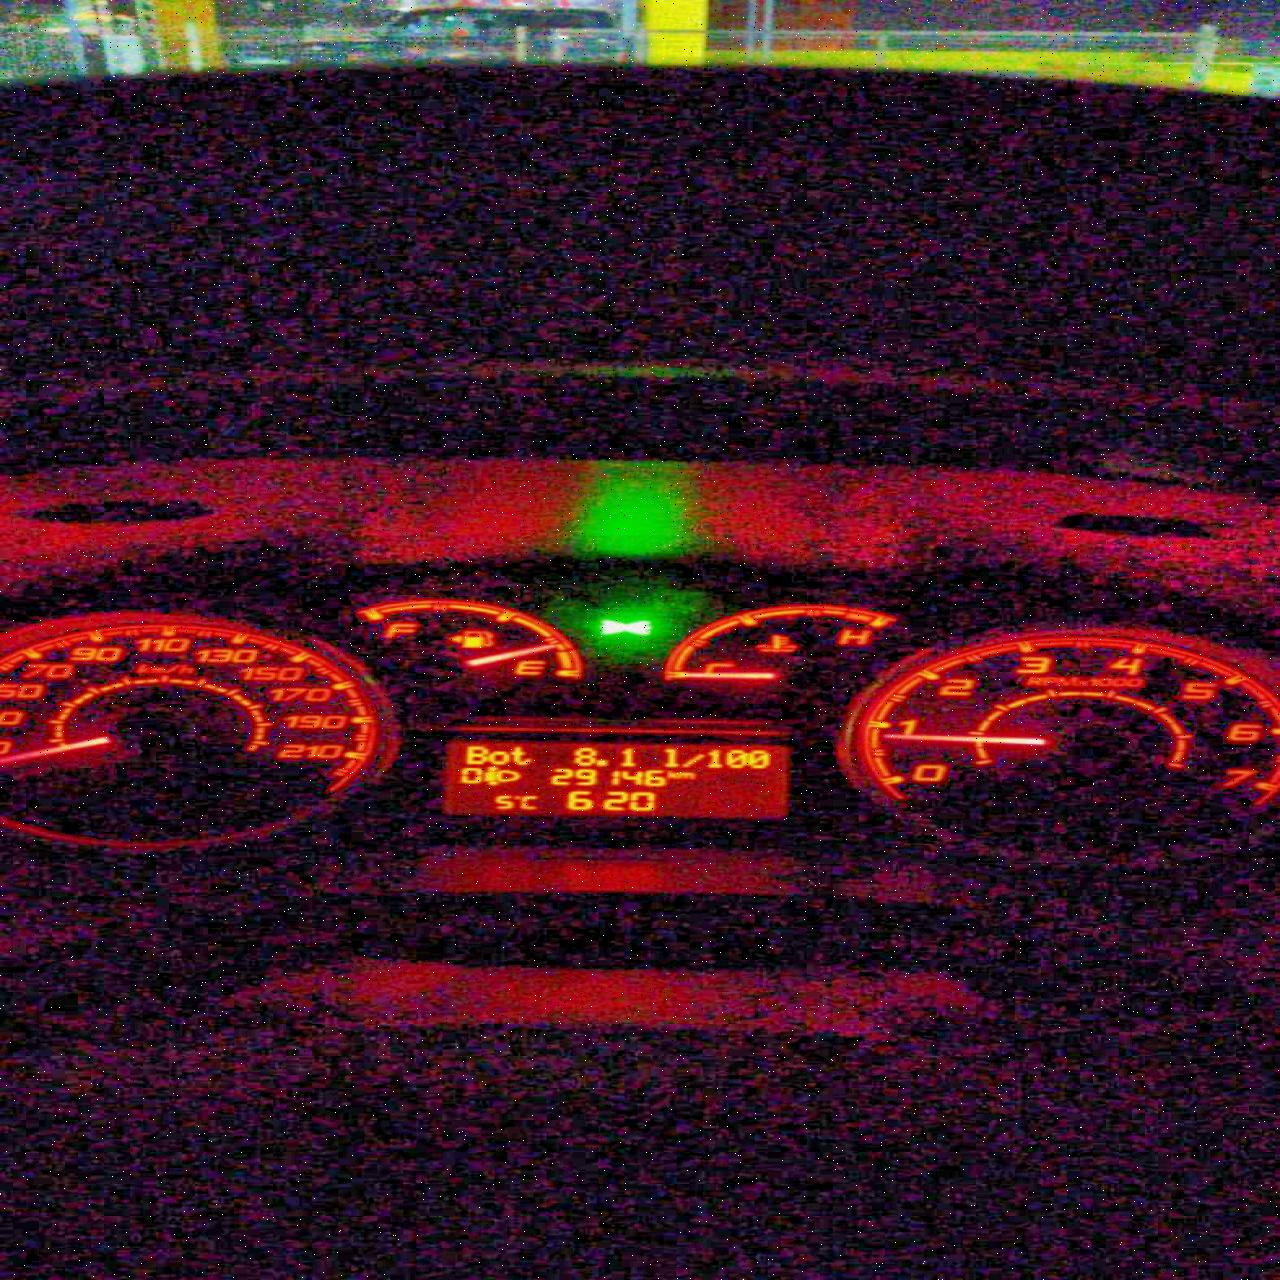0: (628, 790, 654, 812), (722, 747, 747, 769), (747, 748, 769, 769), (458, 767, 482, 784)
1: (617, 747, 641, 768), (660, 745, 680, 767), (706, 748, 720, 770), (608, 768, 620, 787)
2: (601, 790, 626, 811), (550, 767, 572, 784)
4: (621, 769, 641, 785)
5: (492, 794, 512, 809)
6: (564, 789, 592, 810), (645, 769, 663, 788)
8: (571, 745, 594, 764)
9: (572, 768, 599, 784)
X: (463, 743, 486, 764), (509, 745, 532, 767), (681, 751, 704, 767), (519, 794, 540, 810), (486, 750, 508, 764), (676, 770, 694, 781), (593, 794, 601, 809), (666, 769, 676, 779)
odometer: (437, 738, 792, 821)
